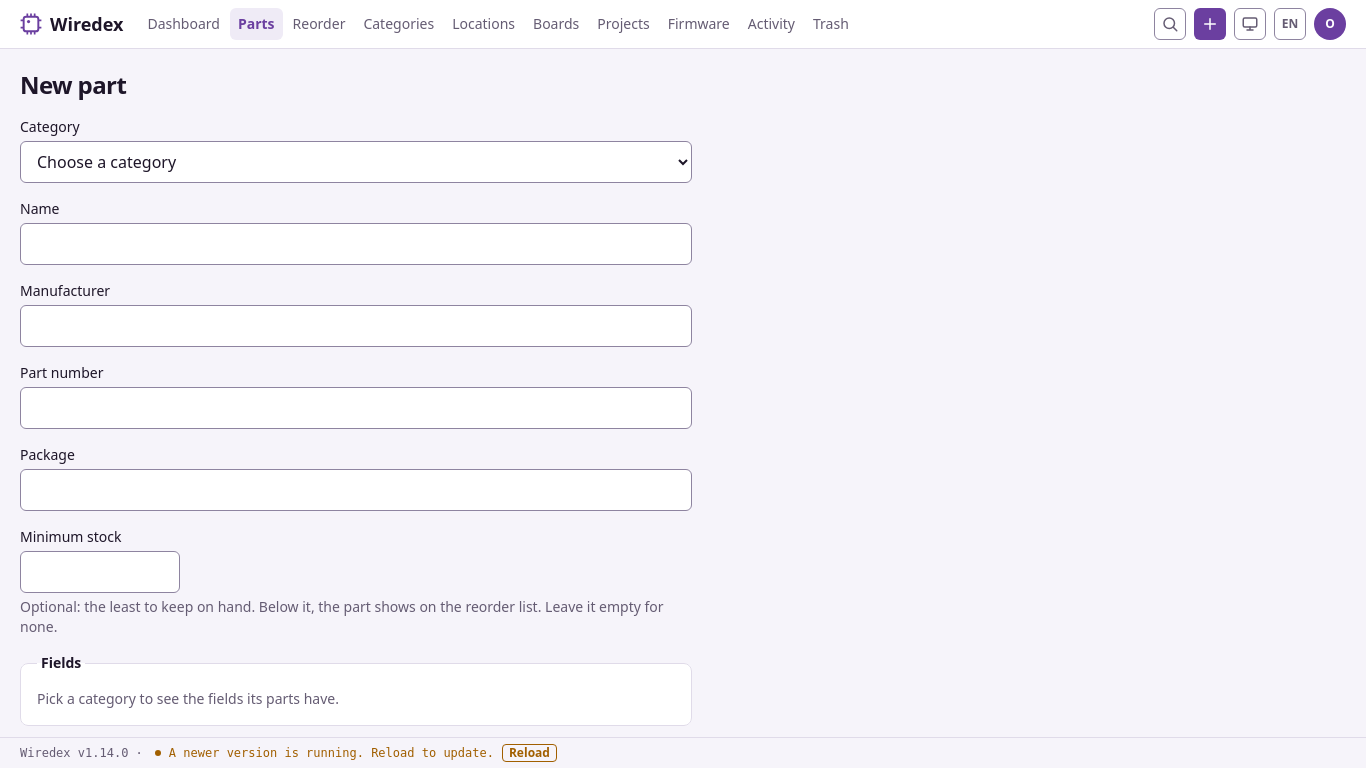
it: PartForm › asks for no minimum for a part nobody stocks
The width and height of the screenshot is (1366, 768).
Select "Resistors" in the dropdown labelled "Category" at (356, 162), box [20, 141, 692, 183]
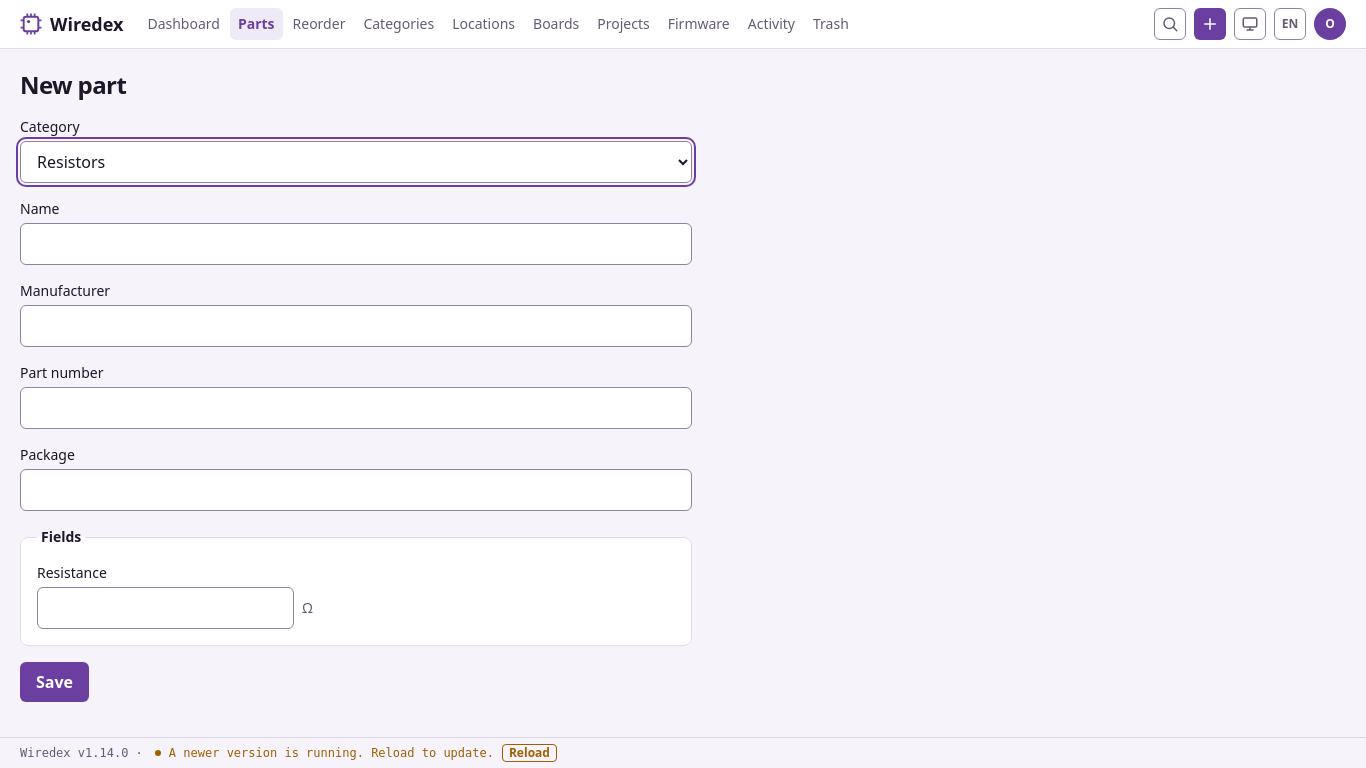
Expected: the label "Minimum stock" is gone
